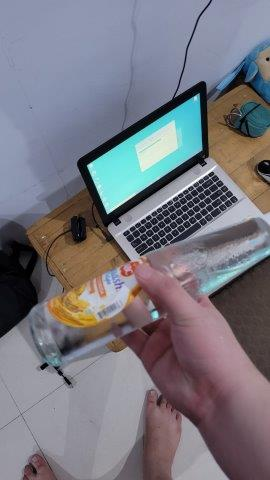botolkaca: (28, 218, 270, 362)
